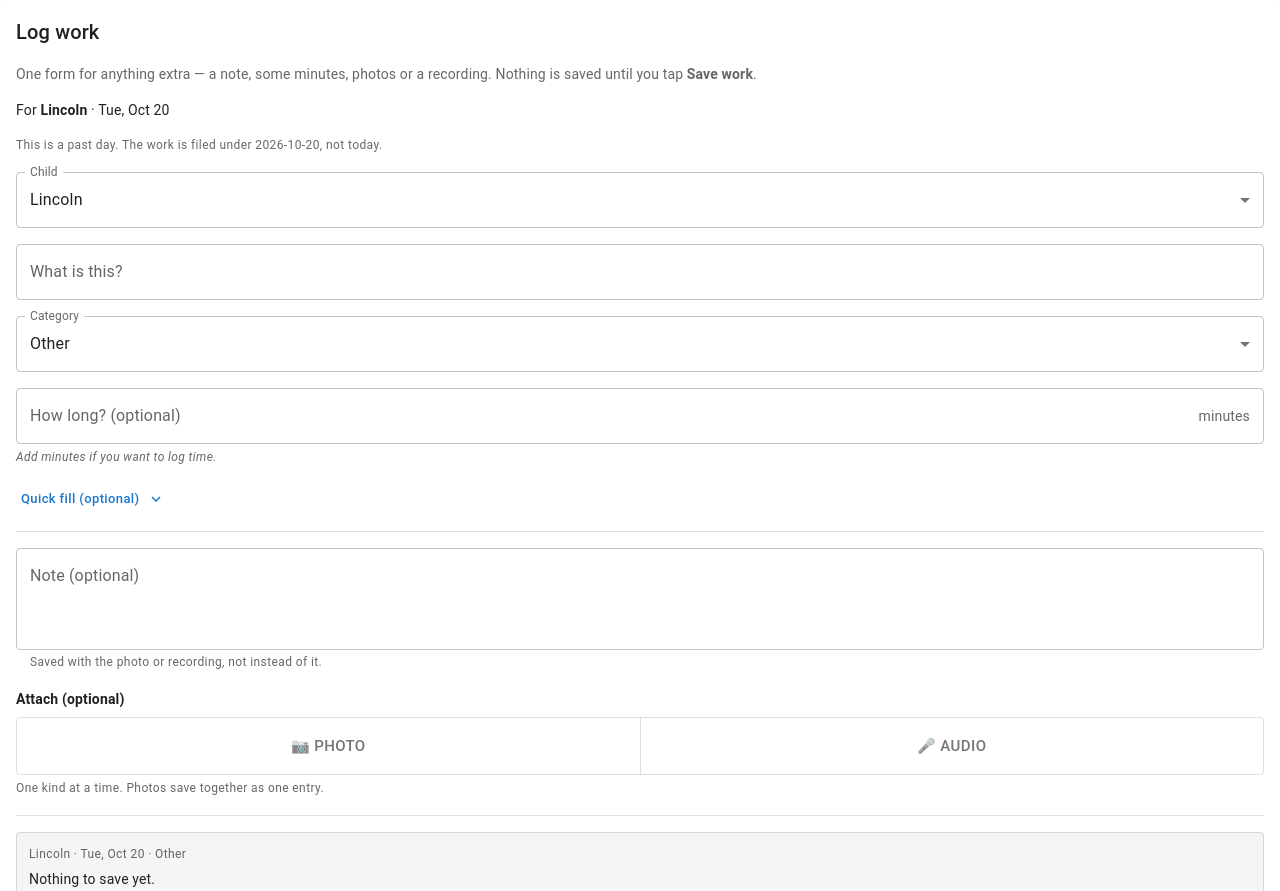
LogWorkCard — the hours row failed and the evidence did not › a finished retry leaves a NEWER draft’s edits alone
Type "Built a tower" into the text box labelled "Note (optional)" at (640, 599), box [30,564,1250,633]
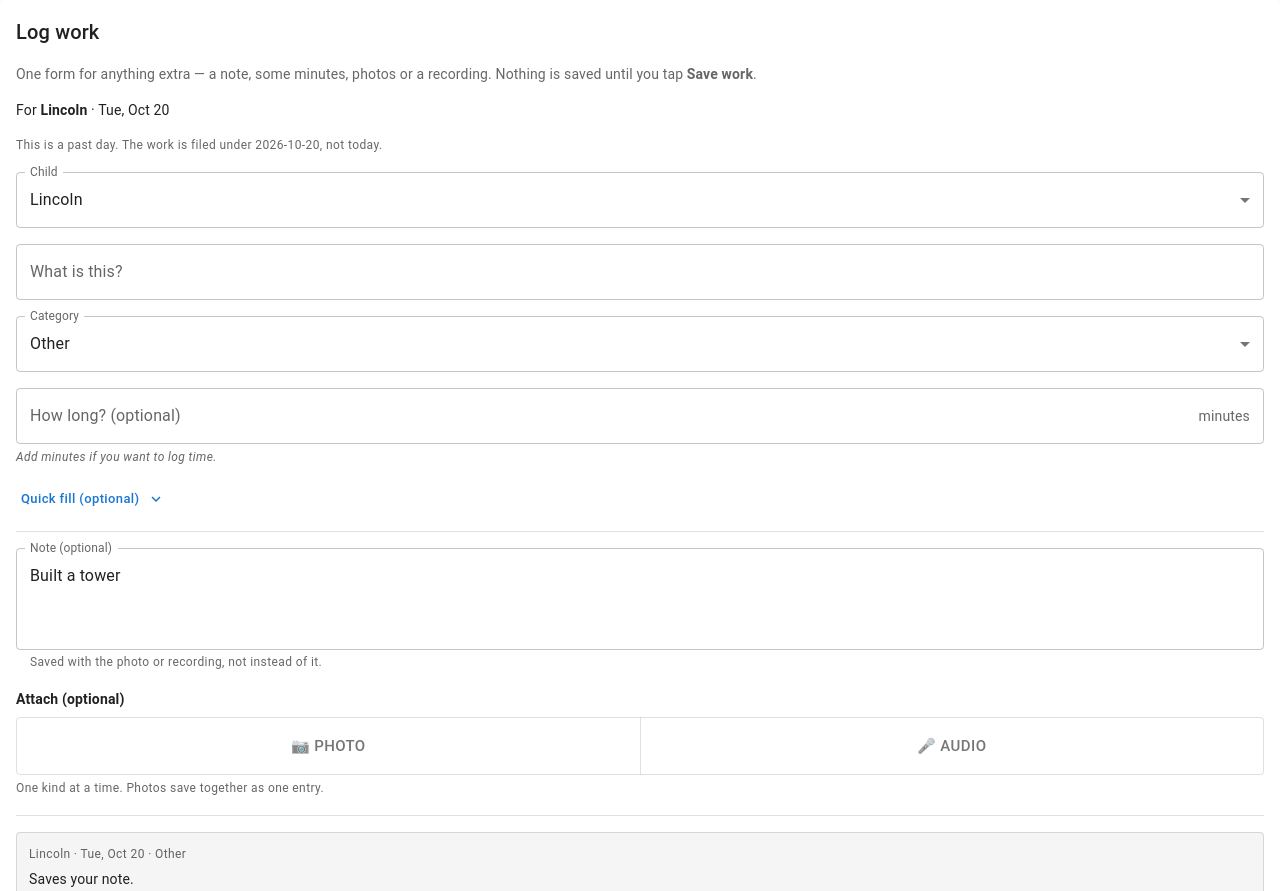
Type "45" into the number field named "Duration in minutes" at (603, 416), box [16,388,1191,444]
(page scrolled)
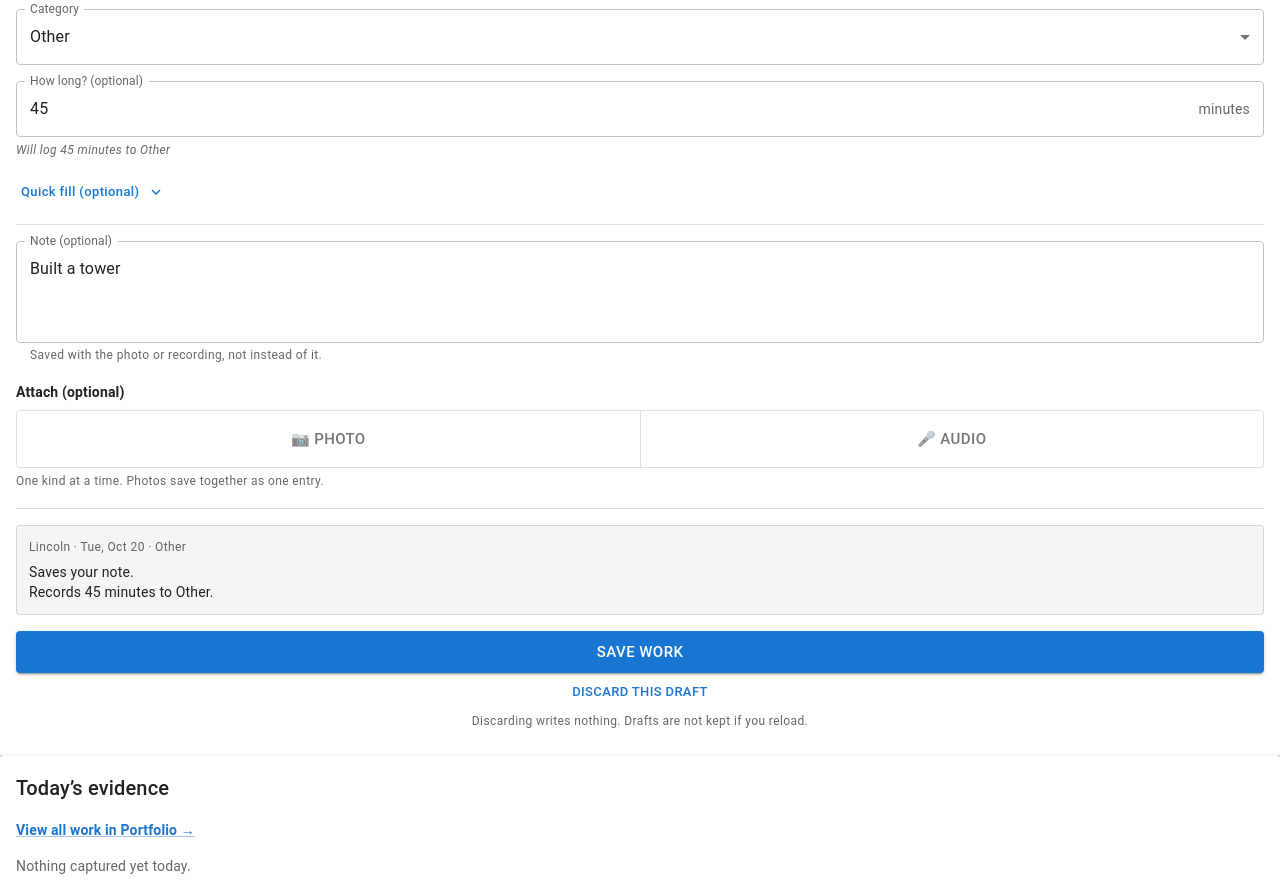
Click the button "Save work" at (640, 652), box [16,631,1264,673]
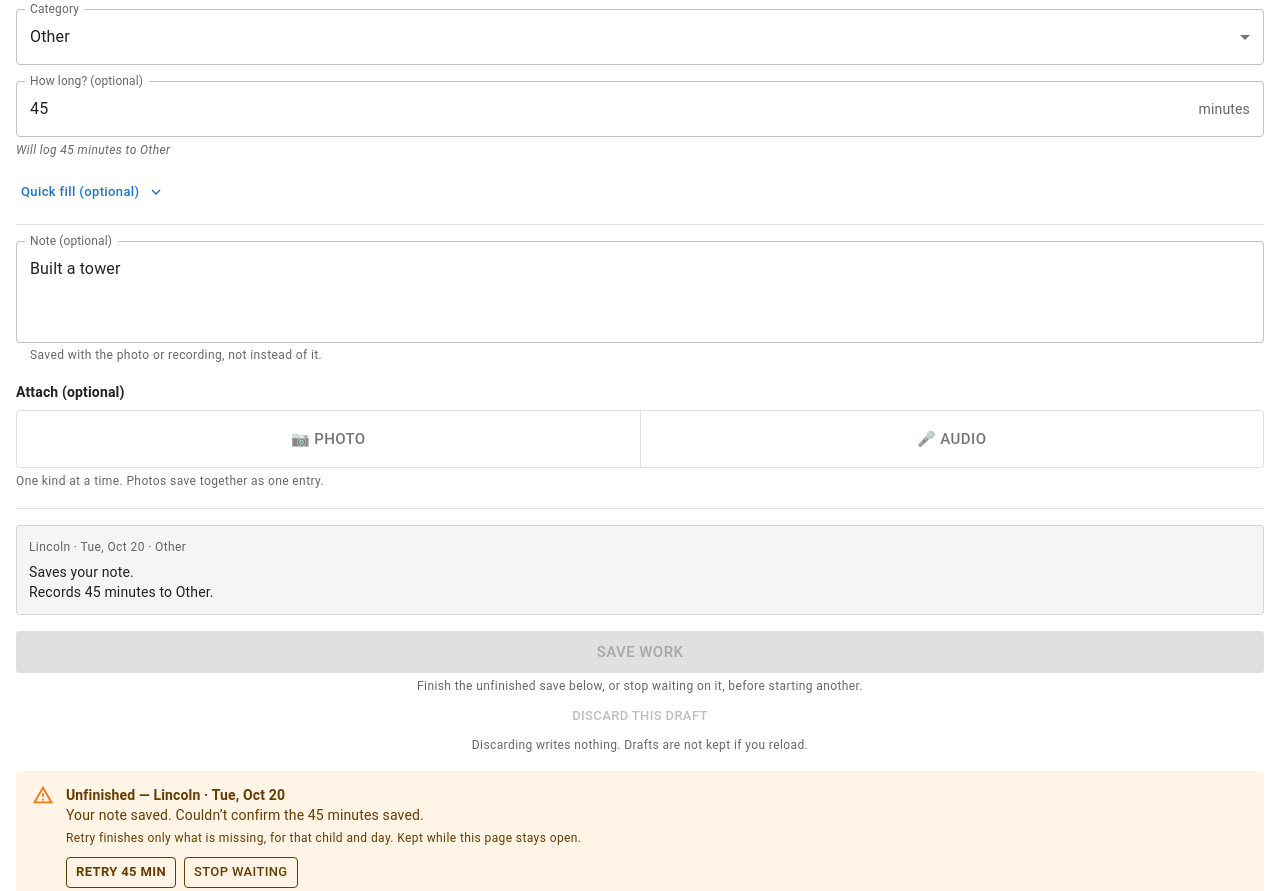
Replace the text in the text box labelled "Note (optional)" with "The next thing entirely" at (640, 292), box [30,257,1250,326]
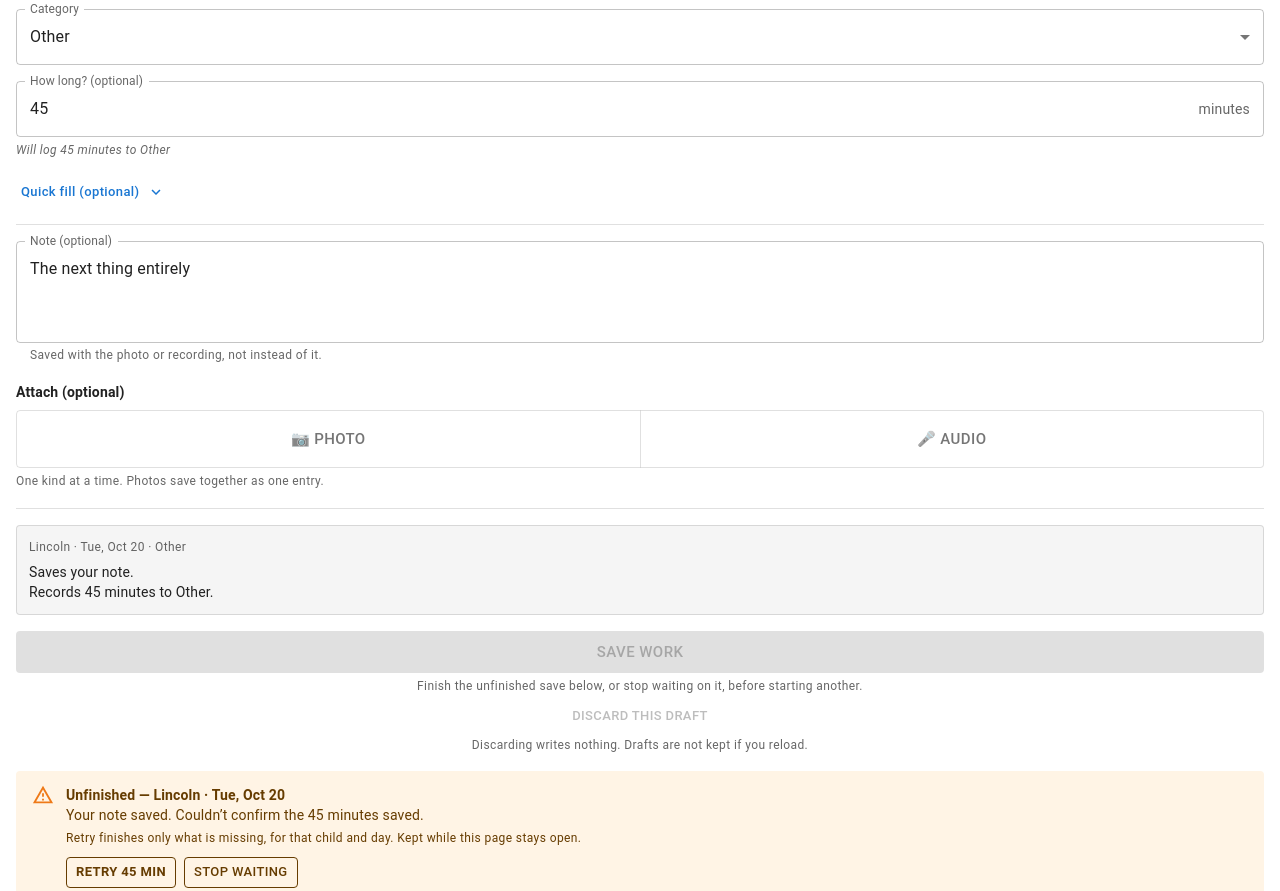
Click the button "Retry 45 min" at (121, 873), box [66,857,176,888]
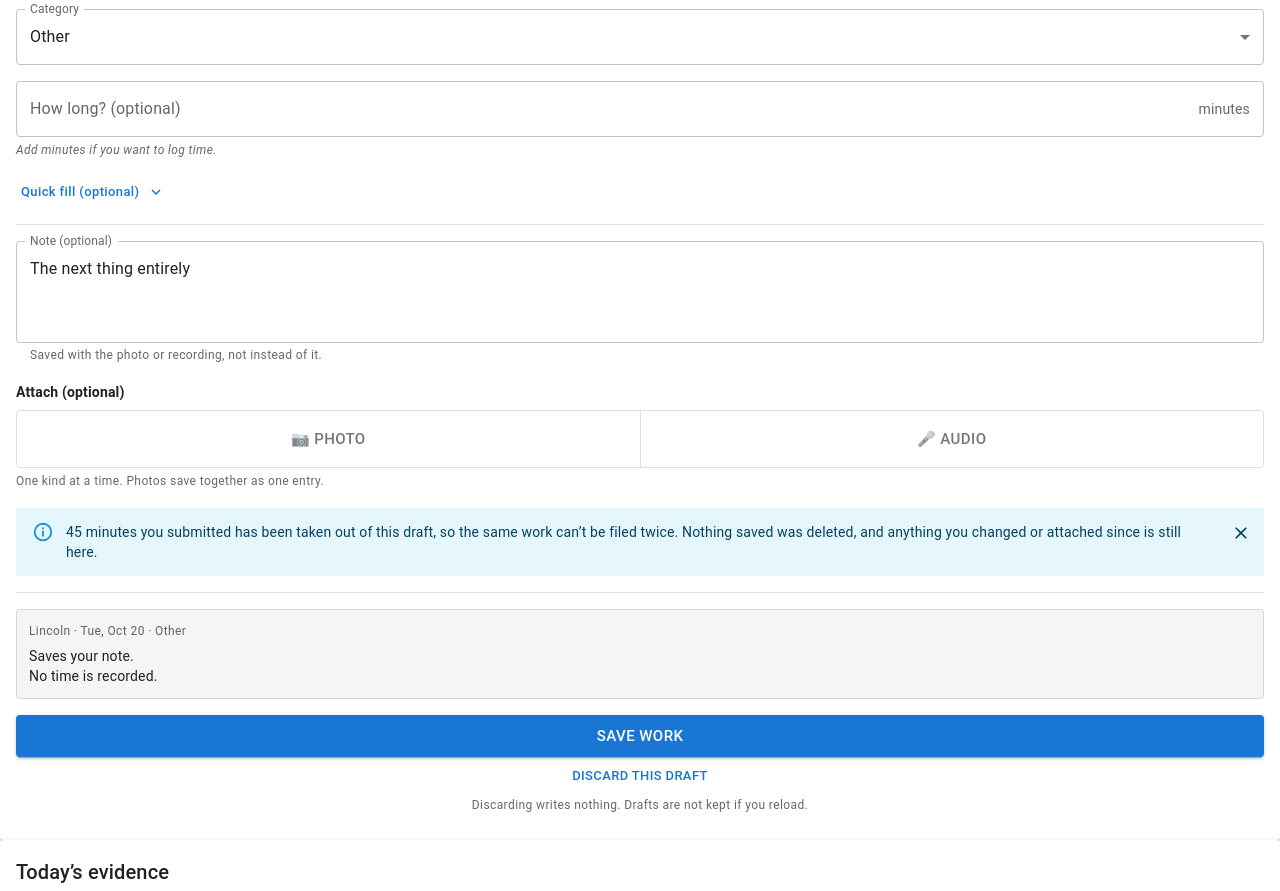
Expected: the button "Save work" is enabled, [16,715,1264,757]
Expected: the number field named "Duration in minutes" is empty, [16,81,1191,137]
